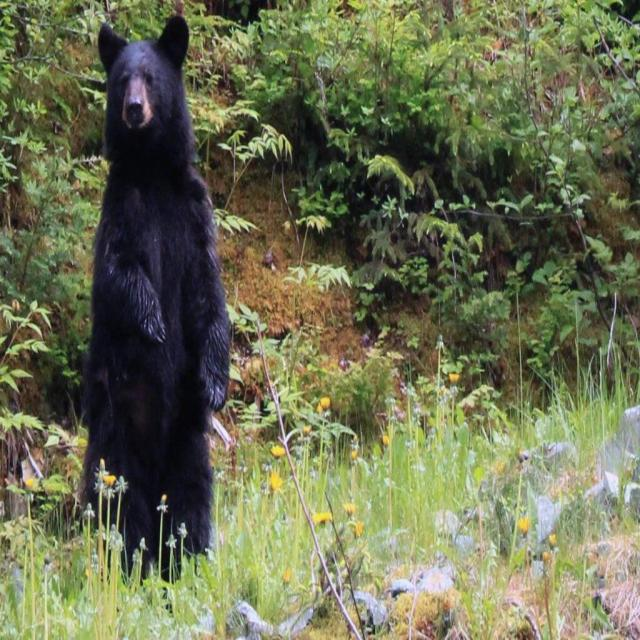Bear: (79, 14, 232, 574)
